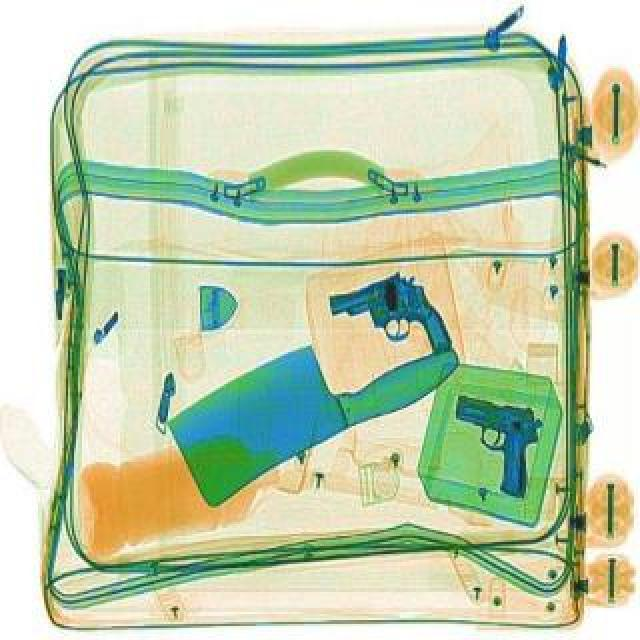gun: (320, 260, 456, 376), (432, 384, 552, 496)
knife: (144, 260, 470, 510)
